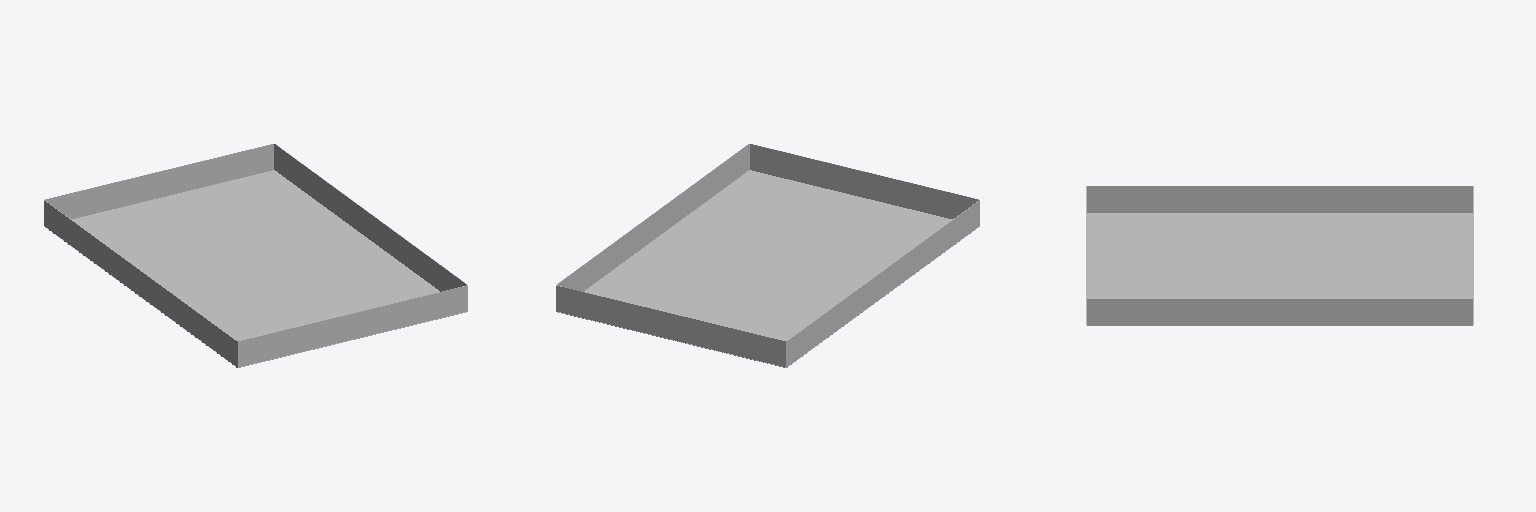
File: mansion.obj
3 renders of one model, left to right at view 1: azimuth 30°, elevation 25°; view 2: azimuth 150°, elevation 25°; view 3: azimuth 270°, elevation 25°, orthographic.
Visible parts, largest first — view 1: floor0_Cube, wall_0_Room.002, wall_0_Room, wall_0_Room.001, wall_0_Room.003, wall_0_Room.004; view 2: floor0_Cube, wall_0_Room, wall_0_Room.002, wall_0_Room.001, wall_0_Room.003, wall_0_Room.004; view 3: floor0_Cube, wall_0_Room.001, wall_0_Room.003, wall_0_Room.004.
Part boxes in pixels (x1,y1,x2,y2): floor0_Cube: (49,170,465,365); wall_0_Room.002: (238,285,467,367); wall_0_Room: (45,144,273,218); wall_0_Room.001: (274,144,466,291); wall_0_Room.003: (44,200,140,296); wall_0_Room.004: (141,271,237,367); floor0_Cube: (558,170,974,367); wall_0_Room: (556,285,785,367); wall_0_Room.002: (750,144,978,218); wall_0_Room.001: (557,144,749,291); wall_0_Room.003: (786,271,882,367); wall_0_Room.004: (883,200,979,296); floor0_Cube: (1087,213,1472,325); wall_0_Room.001: (1087,299,1472,324); wall_0_Room.003: (1280,186,1472,212); wall_0_Room.004: (1087,186,1279,212).
Bounding box in the file's own units: 22.1 × 2.46 × 32.1.